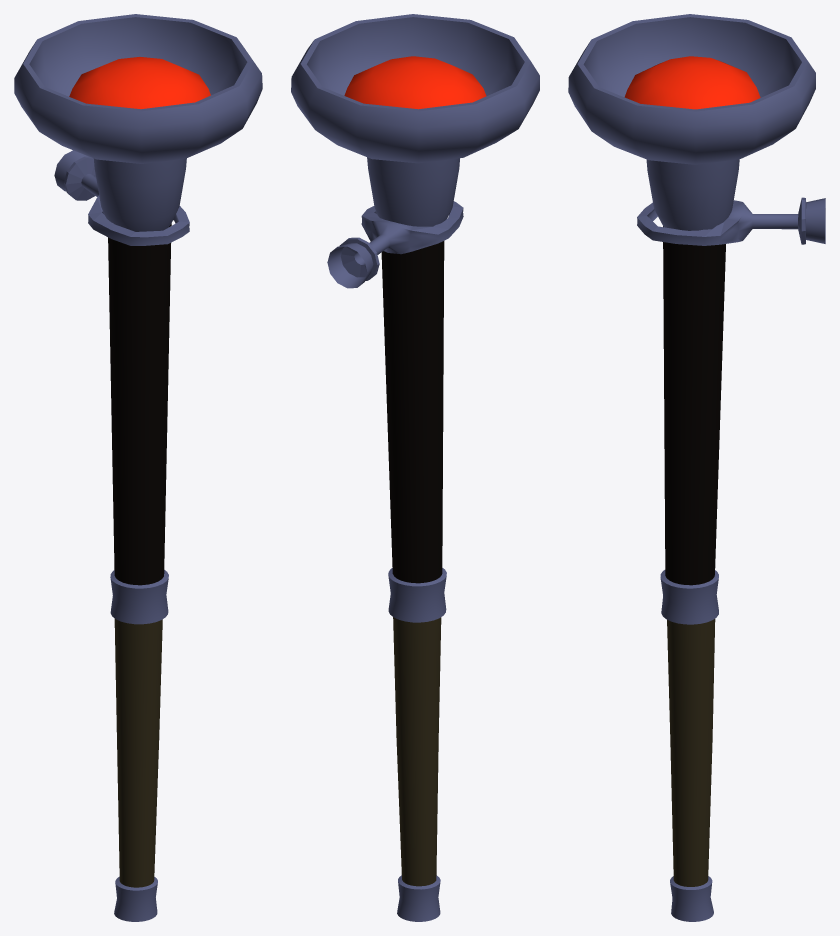
The model's file is TorchWall_7.fbx.
3 renders of one model, left to right at view 1: azimuth 30°, elevation 25°; view 2: azimuth 150°, elevation 25°; view 3: azimuth 270°, elevation 25°, orthographic.
Parts seen in each view (by area): view 1: TorchWall_7; view 2: TorchWall_7; view 3: TorchWall_7.
Part boxes in pixels (box(x1,y1,x2,y2)): TorchWall_7: box(14, 14, 262, 921); TorchWall_7: box(291, 14, 539, 921); TorchWall_7: box(568, 14, 825, 921).
Size of the model in its own units: 15.24 by 15.74 by 57.65.
